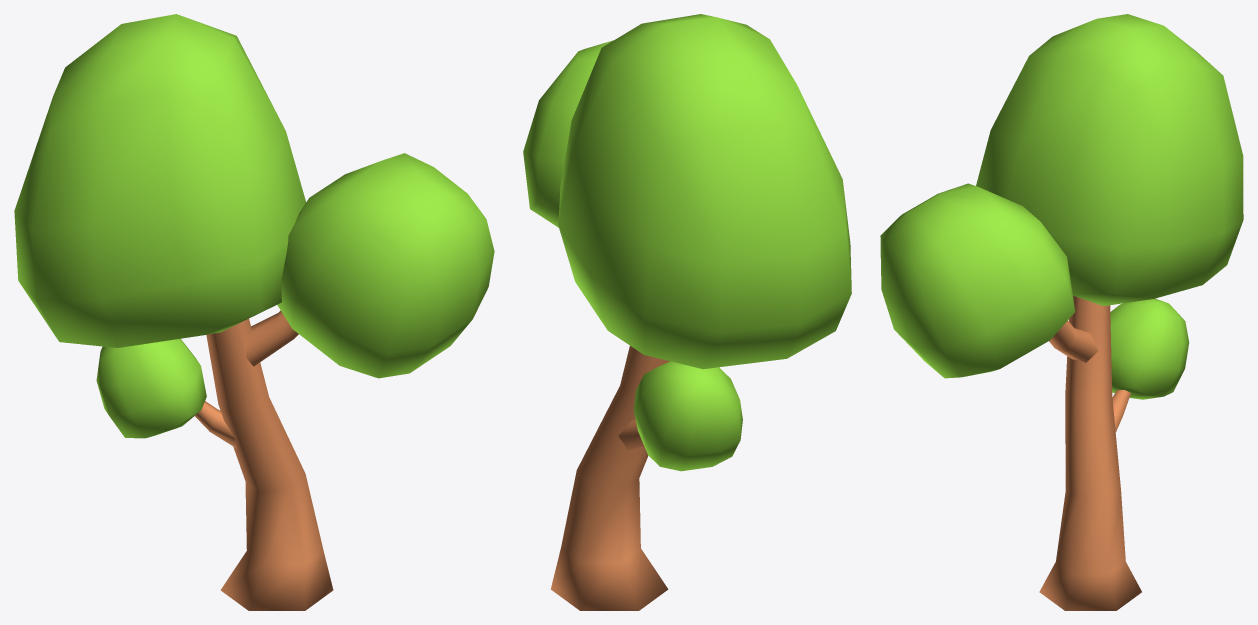
File: Tree_Medium.fbx
The picture shows the model from 3 angles, left to right: view 1: azimuth 30°, elevation 25°; view 2: azimuth 150°, elevation 25°; view 3: azimuth 270°, elevation 25°; orthographic projection. The views are drawn at different scales.
Parts seen in each view (by area): view 1: tree_medium; view 2: tree_medium; view 3: tree_medium.
Part boxes in pixels (x1=…): tree_medium: x1=14, y1=14, x2=494, y2=610; tree_medium: x1=523, y1=14, x2=851, y2=610; tree_medium: x1=880, y1=14, x2=1243, y2=610.
Bounding box in the file's own units: 496 × 744 × 464.
